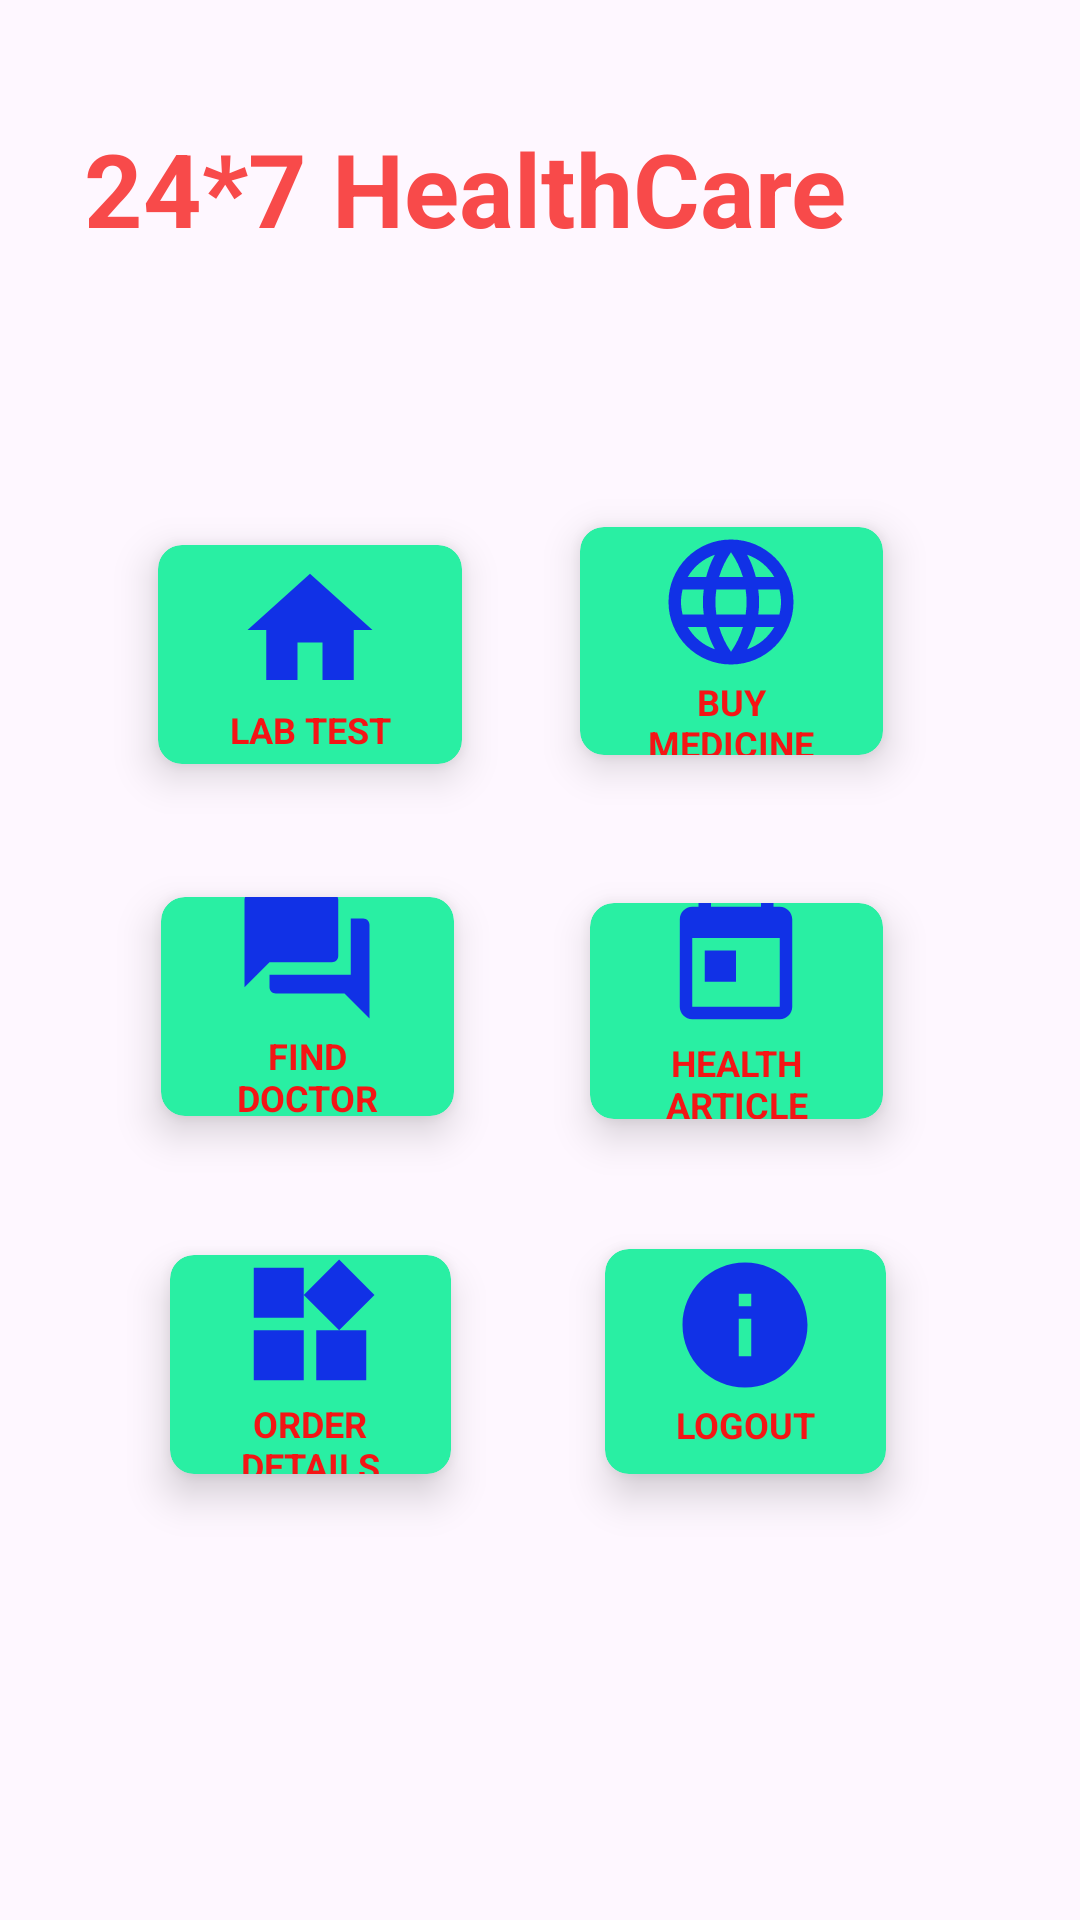

Locate icon controls on the screen. Image size 1080*1920, boxes as (x1, y1, x2, y2).
calender: (661, 888, 811, 1020)
home: (248, 574, 372, 680)
info: (682, 1262, 808, 1388)
language: (668, 539, 794, 665)
widgets: (253, 1259, 374, 1381)
